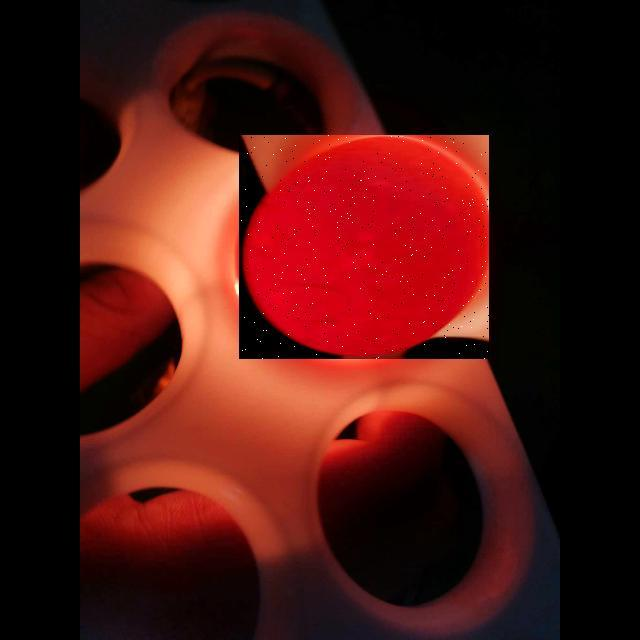Infertile: (239, 135, 489, 359)
